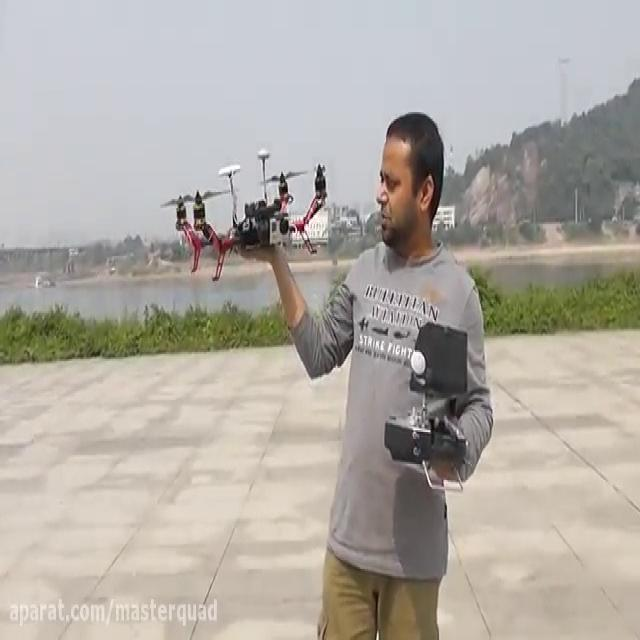drone: (158, 144, 329, 283)
